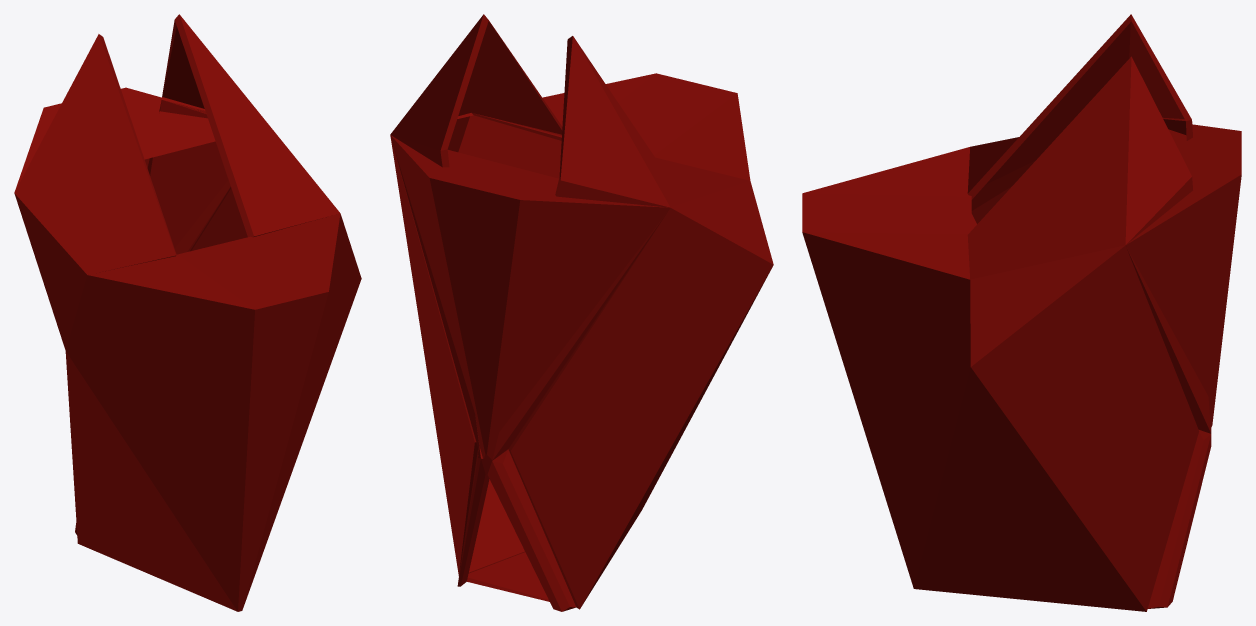
Rendered from RFOX_HALL.glb.
3 views of the same model, side by side, from view 1: azimuth 30°, elevation 25°; view 2: azimuth 150°, elevation 25°; view 3: azimuth 270°, elevation 25° (orthographic). The views are drawn at different scales.
Visible parts, largest first — view 1: Cube; view 2: Cube; view 3: Cube.
Boxes of the visible parts, <box> form: Cube: <box>14,14,361,611</box>; Cube: <box>390,14,773,611</box>; Cube: <box>802,14,1241,611</box>.
Size of the model in its own units: 12.95 by 21.48 by 15.48.
